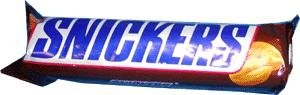grozi_12: (0, 0, 300, 95)
